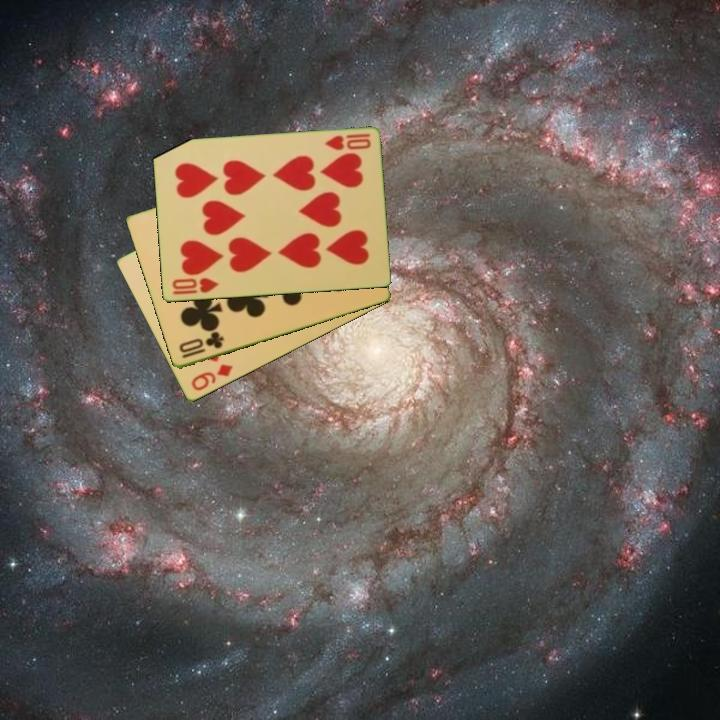10c: (175, 329, 227, 362)
10h: (169, 275, 221, 298), (321, 130, 373, 153)
9d: (187, 361, 236, 394)
